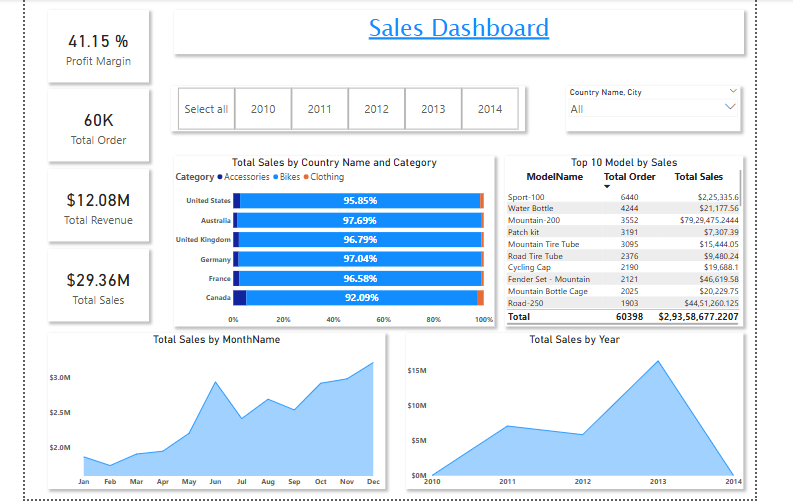

This screenshot's page, from the dashboard's own definition file:
{"tool":"powerbi","page":{"name":"Sales Dashboard","canvas":[2600,1780],"ordinal":1},"visuals":[{"type":"card","fields":{"Values":["DAX Measures.Profit Margin"]},"box":[80.3,38.4,359.5,258.3],"z":0},{"type":"card","fields":{"Values":["DAX Measures.Total Order"]},"box":[80.3,321.1,359.5,258.3],"z":1000},{"type":"card","fields":{"Values":["DAX Measures.Total Sales"]},"box":[80.3,890,359.5,258.3],"z":2000},{"type":"card","fields":{"Values":["DAX Measures.Total Revenue"]},"box":[80.3,603.8,359.5,258.3],"z":3000},{"type":"areaChart","fields":{"Category":["calendar.MonthName"],"Y":["DAX Measures.Total Sales"]},"box":[80.3,1190,1200.6,555],"z":4000},{"type":"areaChart","fields":{"Y":["DAX Measures.Total Sales"],"Category":["calendar.OrderDate.Variation.Date Hierarchy.Year","calendar.OrderDate.Variation.Date Hierarchy.Quarter","calendar.OrderDate.Variation.Date Hierarchy.Month","calendar.OrderDate.Variation.Date Hierarchy.Day"]},"box":[1357.7,1190.2,1200.6,554.9],"z":5000},{"type":"hundredPercentStackedBarChart","fields":{"Category":["geography.Country Name"],"Series":["product.Category"],"Y":["DAX Measures.Total Sales"]},"box":[530.5,558.4,1141.3,607.3],"z":6000},{"type":"slicer","title":"Year","fields":{"Values":["calendar.Year"]},"box":[519.4,308.9,1260,160.5],"z":7000},{"type":"slicer","fields":{"Values":["geography.Country Name","geography.City"]},"box":[1926,308.9,621.3,160.5],"z":8000},{"type":"textbox","box":[530.4,39.2,2029.2,156.6],"z":9000},{"type":"tableEx","title":"Top 10 Model by Sales","fields":{"Values":["product.ModelName","DAX Measures.Total Order","DAX Measures.Total Sales"]},"box":[1710.2,558.4,848.1,607.3],"z":10000}]}

Visuals, with their boxes on the page's 2600x1780 design canvas (x1, y1, x2, y2). These are canvas units, not pixel positions in the 793x502 screenshot, which may show the page scaled, cropped or inside an application window:
card - DAX Measures.Profit Margin: [80,38,440,297]
card - DAX Measures.Total Order: [80,321,440,579]
card - DAX Measures.Total Sales: [80,890,440,1148]
card - DAX Measures.Total Revenue: [80,604,440,862]
areaChart - calendar.MonthName x DAX Measures.Total Sales: [80,1190,1281,1745]
areaChart - DAX Measures.Total Sales x calendar.OrderDate.Variation.Date Hierarchy.Year: [1358,1190,2558,1745]
hundredPercentStackedBarChart - geography.Country Name x product.Category: [530,558,1672,1166]
"Year" slicer: [519,309,1779,469]
slicer - geography.Country Name x geography.City: [1926,309,2547,469]
textbox: [530,39,2560,196]
"Top 10 Model by Sales" tableEx: [1710,558,2558,1166]
